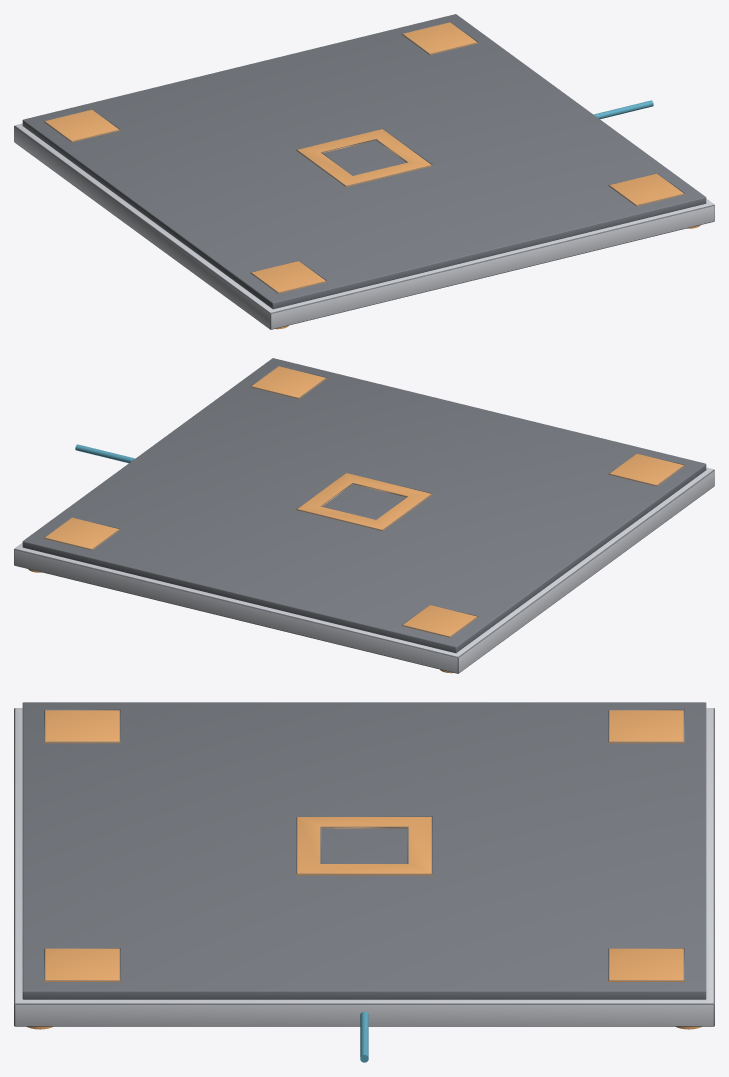
Rendered from charging-pad-m.glb.
3 views of the same model, one above another, from view 1: azimuth 30°, elevation 25°; view 2: azimuth 150°, elevation 25°; view 3: azimuth 270°, elevation 25° (orthographic). The views are drawn at different scales.
Parts seen in each view (by area): view 1: Charging Pad M V1; view 2: Charging Pad M V1; view 3: Charging Pad M V1.
Boxes of the visible parts, <box> form: Charging Pad M V1: <box>14,14,714,329</box>; Charging Pad M V1: <box>14,358,714,673</box>; Charging Pad M V1: <box>14,702,714,1062</box>.
Bounding box in the file's own units: 0.94 × 0.0515 × 0.82.
